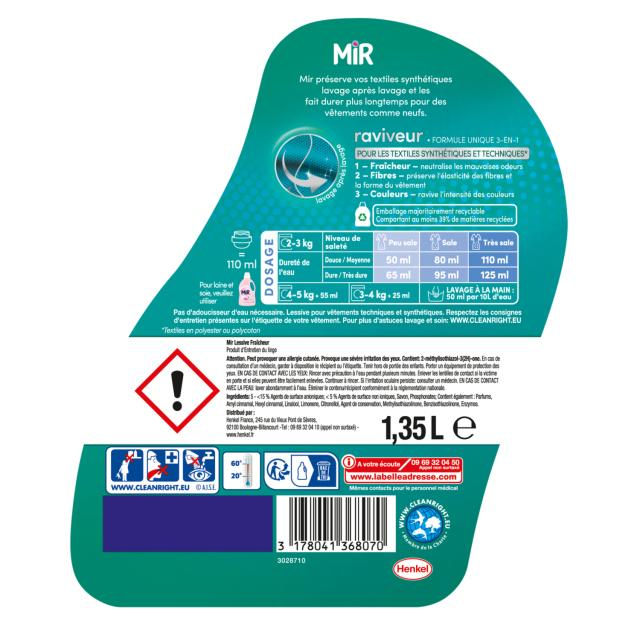GHS_Symbol_EXCLAMATION_MARK: (135, 349, 219, 434)
